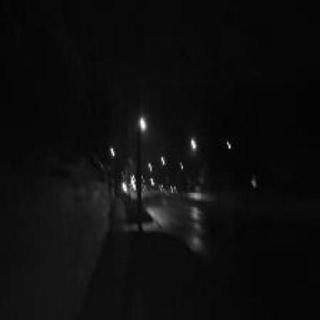other: (121, 167, 183, 201), (143, 151, 185, 174), (135, 110, 153, 136), (187, 132, 201, 152)
